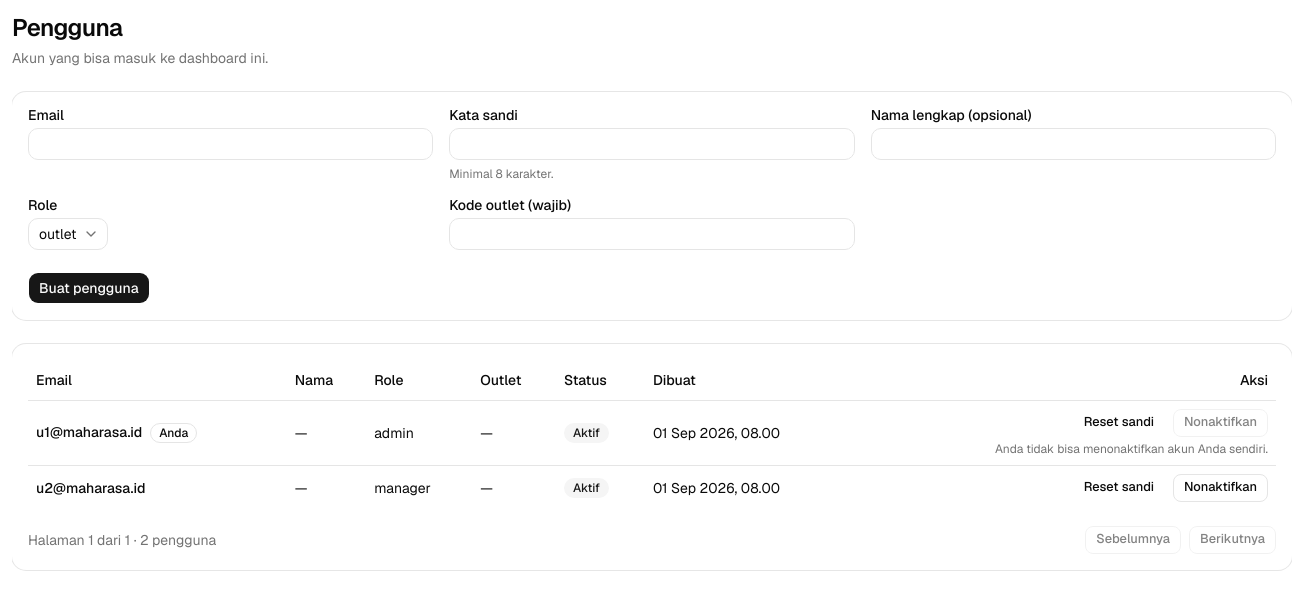
Test: UsersView — buat pengguna (6.8, 6.16) › role outlet tanpa kode outlet memunculkan pesan di field (6.16)
Type "baru@maharasa.id" into the field labelled "Email" at (231, 144), box [28,128,433,160]
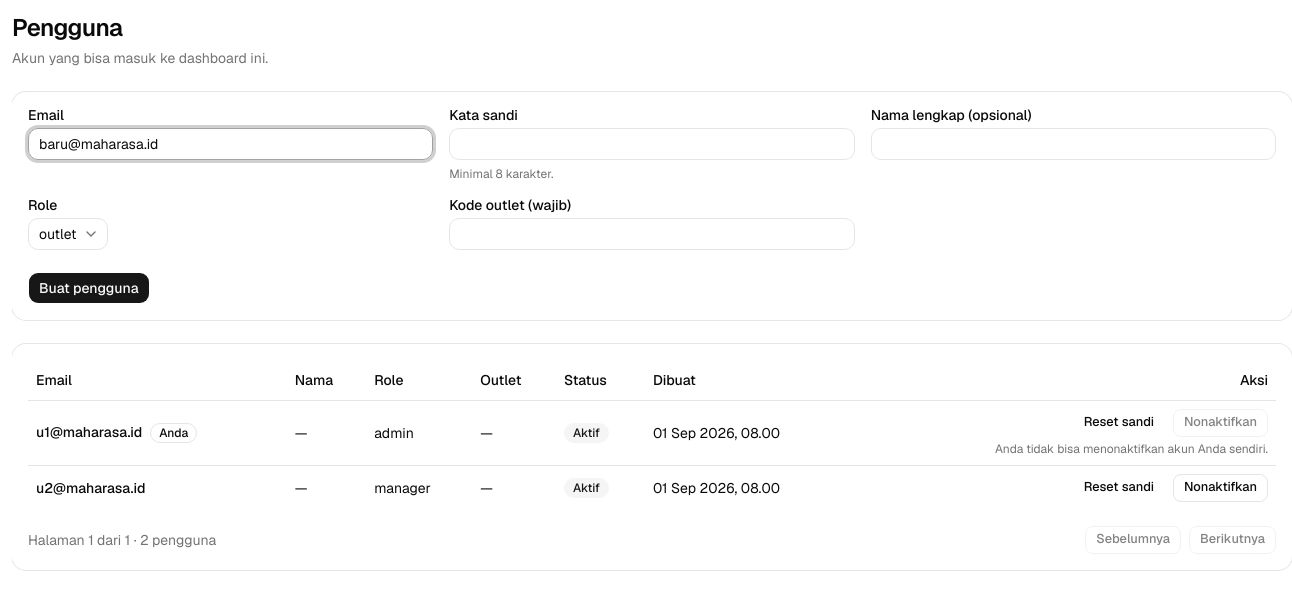
Type "rahasia123" into the password field labelled "Kata sandi" at (652, 144), box [449,128,855,160]
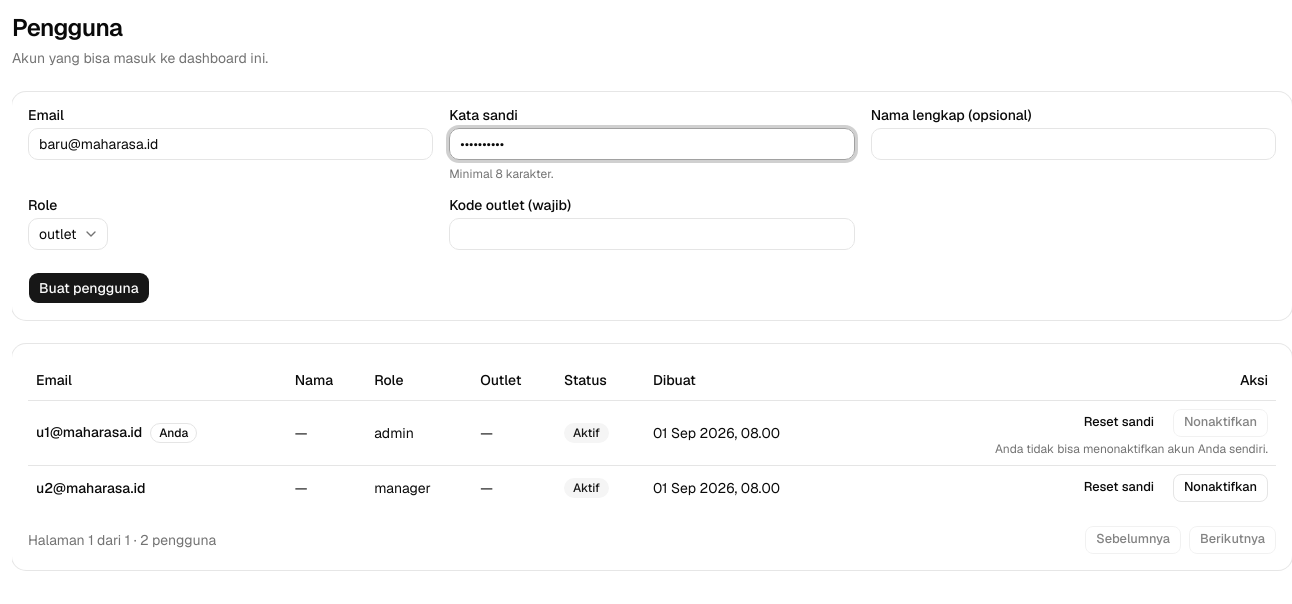
Click the button "Buat pengguna" at (89, 288), box [28,272,150,304]
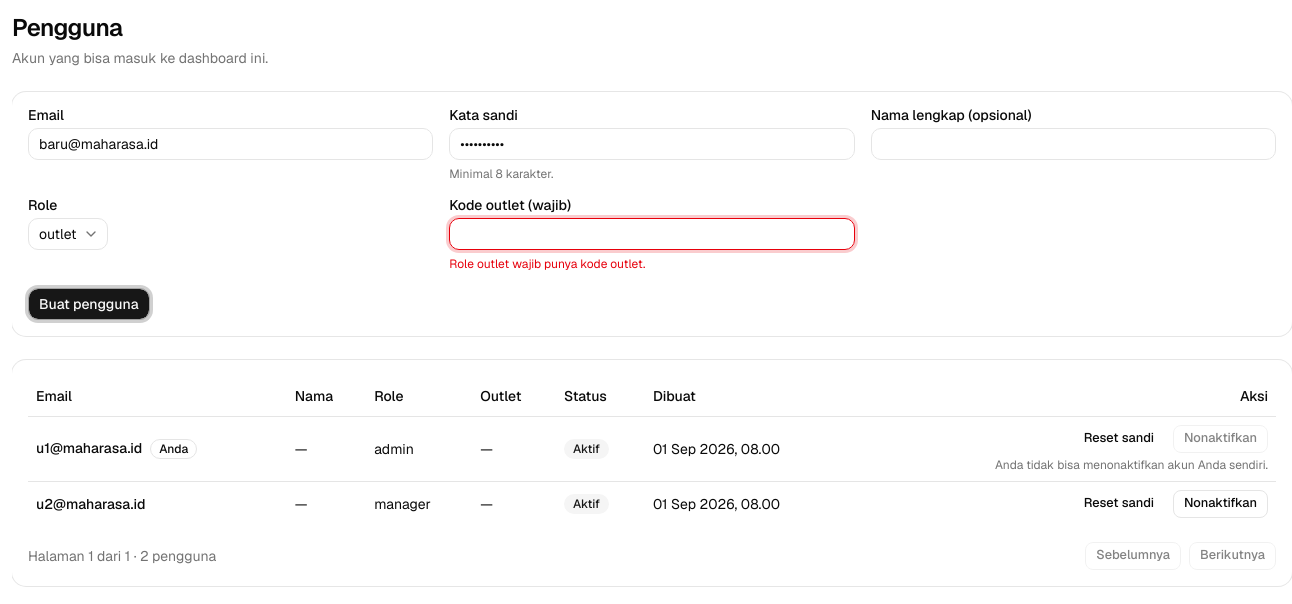
Check: the message shows "wajib punya kode outlet", box [449,256,645,272]
